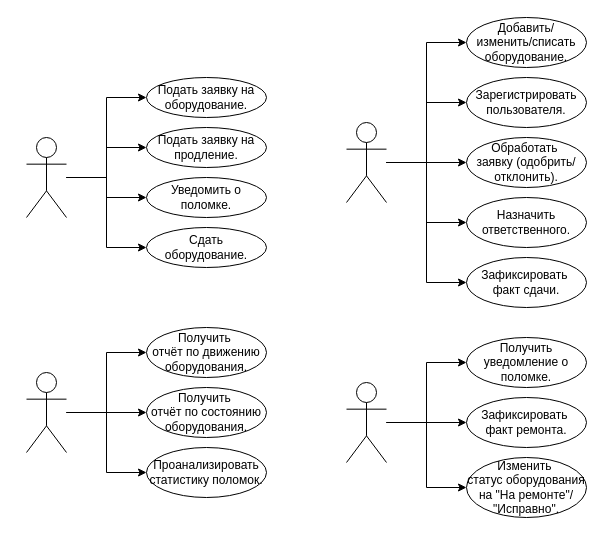
Some shapes in this 604 by 535 pixel diagram are drawn without their labels. The centre of each missing label's shape, as x and y in pixels:
Администратор: the point at 366,162
Аналитик: the point at 46,412
Инженер: the point at 366,422
Сотрудник: the point at 46,177
